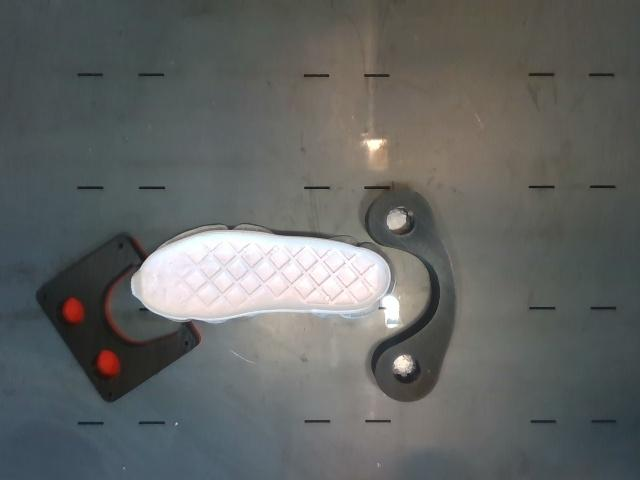shoes: (132, 232, 390, 320)
